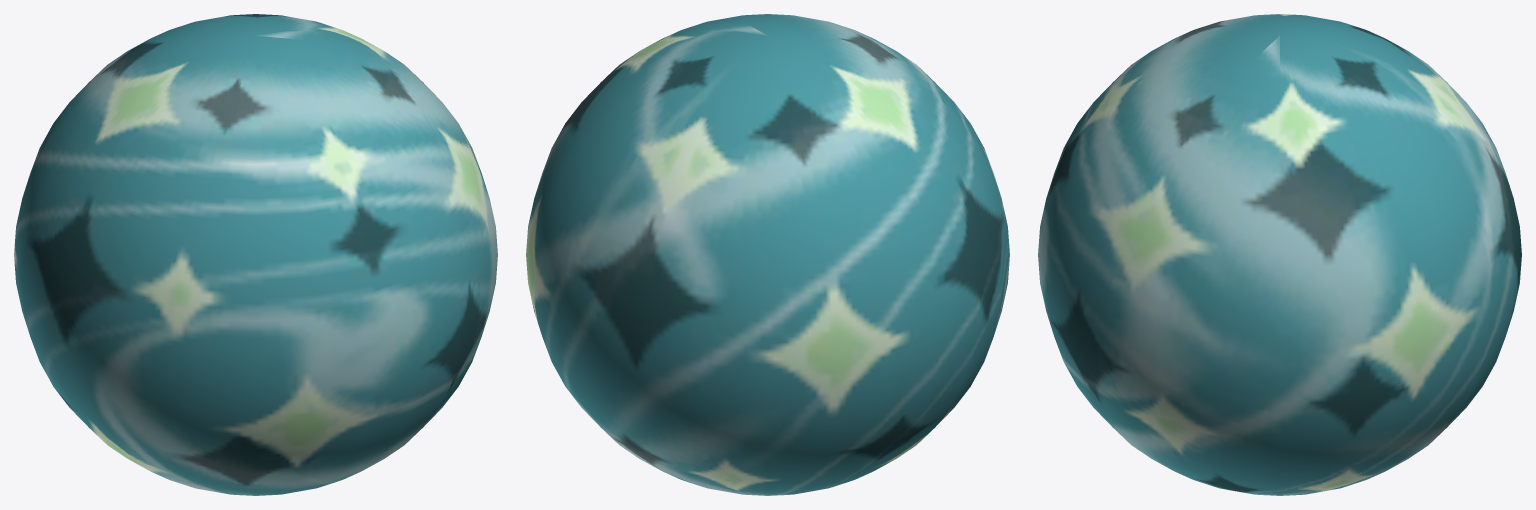
Rendered from bwg_ball_pro__bwg_ball_blue_pro.glb.
3 views of the same model, side by side, from view 1: azimuth 30°, elevation 25°; view 2: azimuth 150°, elevation 25°; view 3: azimuth 270°, elevation 25° (orthographic).
Visible parts, largest first — view 1: polygon0; view 2: polygon0; view 3: polygon0.
Part boxes in pixels (left/top/right/bottom): polygon0: left=14, top=14, right=497, bottom=495; polygon0: left=526, top=14, right=1009, bottom=495; polygon0: left=1038, top=14, right=1521, bottom=495.
Size of the model in its own units: 2.18 by 2.18 by 2.18.
1 material, 1 textured.
